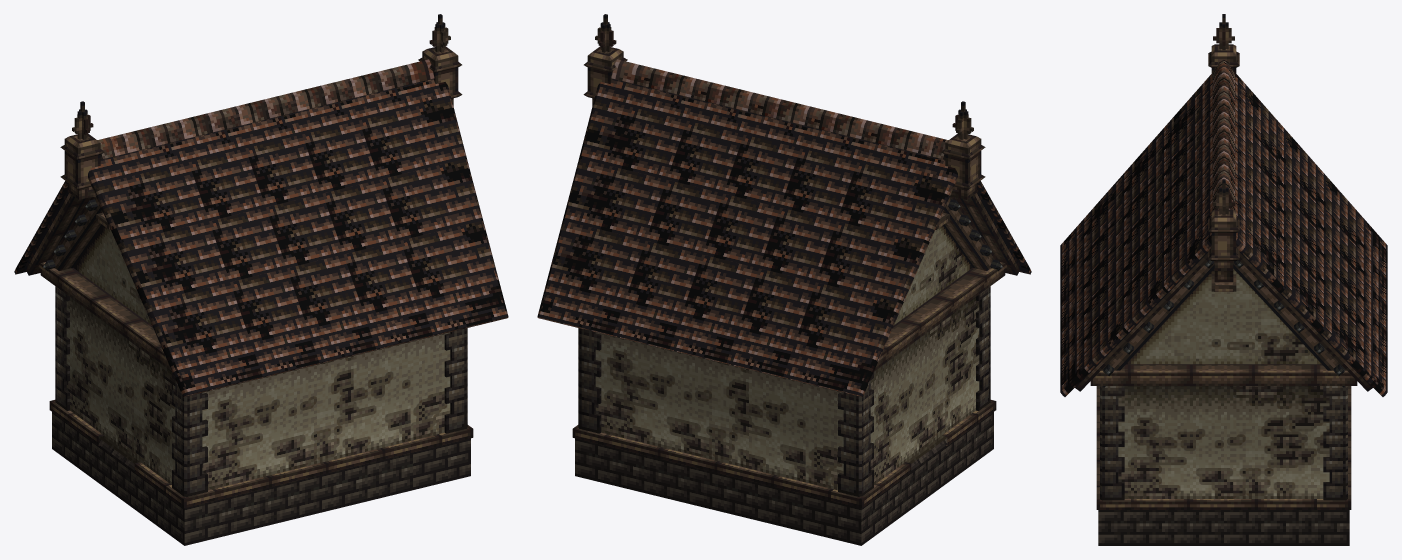
The model's file is EnvBdgMD_City_D_Outdoor_4W5D_A.FBX.
The picture shows the model from 3 angles, left to right: view 1: azimuth 30°, elevation 25°; view 2: azimuth 150°, elevation 25°; view 3: azimuth 270°, elevation 25°; orthographic projection. The views are drawn at different scales.
Visible parts, largest first — view 1: EnvBdgMD_City_D_Outdoor_4W5D_A; view 2: EnvBdgMD_City_D_Outdoor_4W5D_A; view 3: EnvBdgMD_City_D_Outdoor_4W5D_A.
Part boxes in pixels (x1=…): EnvBdgMD_City_D_Outdoor_4W5D_A: x1=14, y1=14, x2=508, y2=545; EnvBdgMD_City_D_Outdoor_4W5D_A: x1=537, y1=14, x2=1031, y2=545; EnvBdgMD_City_D_Outdoor_4W5D_A: x1=1060, y1=14, x2=1387, y2=545.
Bounding box in the file's own units: 680 × 680 × 527.
